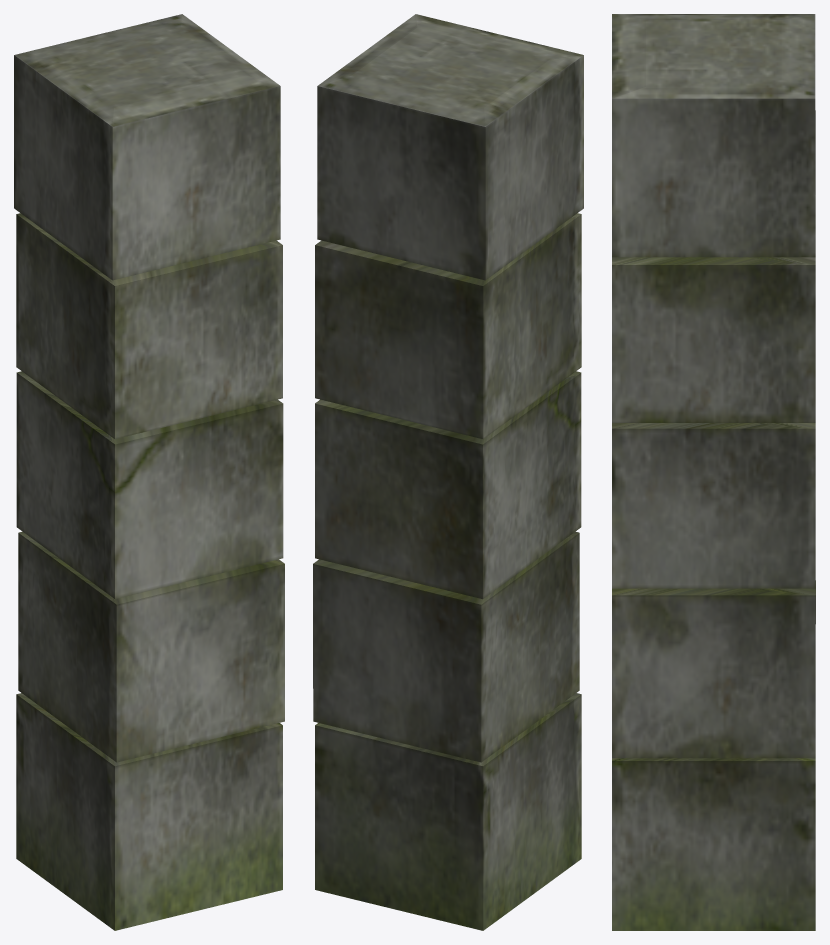
Rendered from pillar_type005.FBX.
3 views of the same model, side by side, from view 1: azimuth 30°, elevation 25°; view 2: azimuth 150°, elevation 25°; view 3: azimuth 270°, elevation 25° (orthographic). The views are drawn at different scales.
Parts seen in each view (by area): view 1: pillar_type005; view 2: pillar_type005; view 3: pillar_type005.
Part boxes in pixels (bbox=[...]): pillar_type005: bbox=[14, 14, 284, 930]; pillar_type005: bbox=[313, 14, 583, 930]; pillar_type005: bbox=[612, 14, 815, 930].
Bounding box in the file's own units: 139 × 626 × 138.
